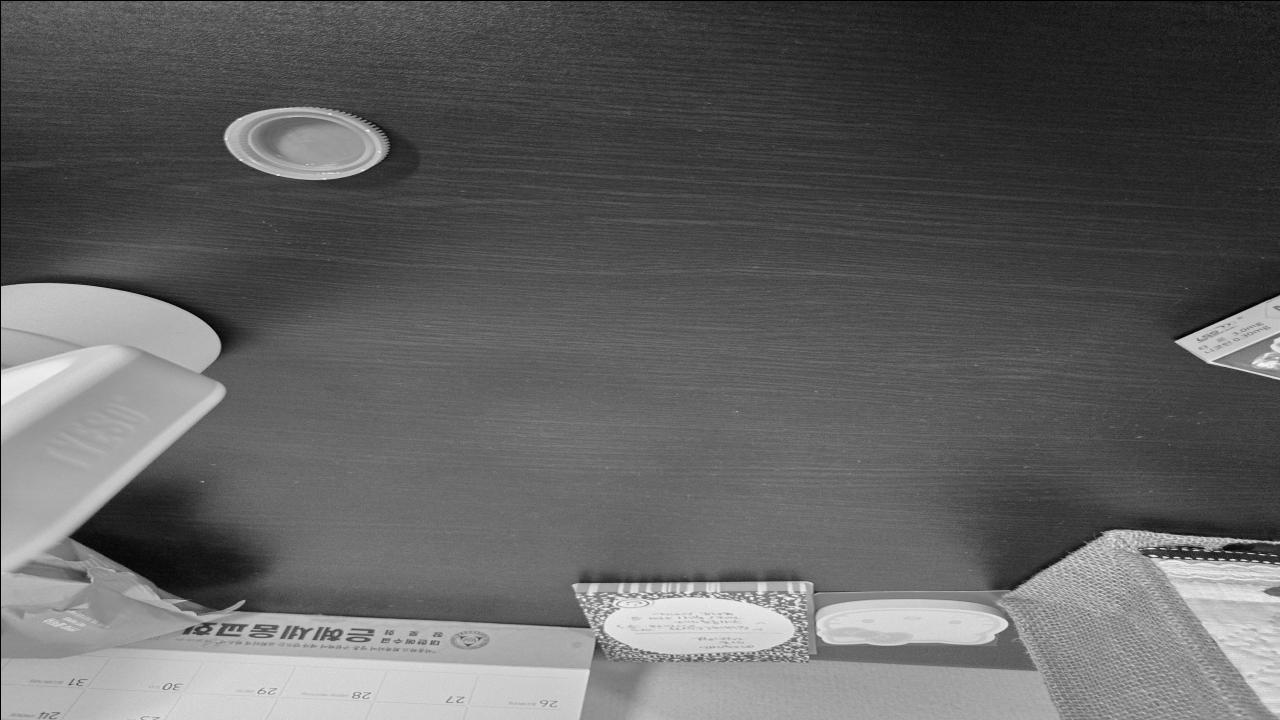bottle_cap: (220, 105, 392, 179)
